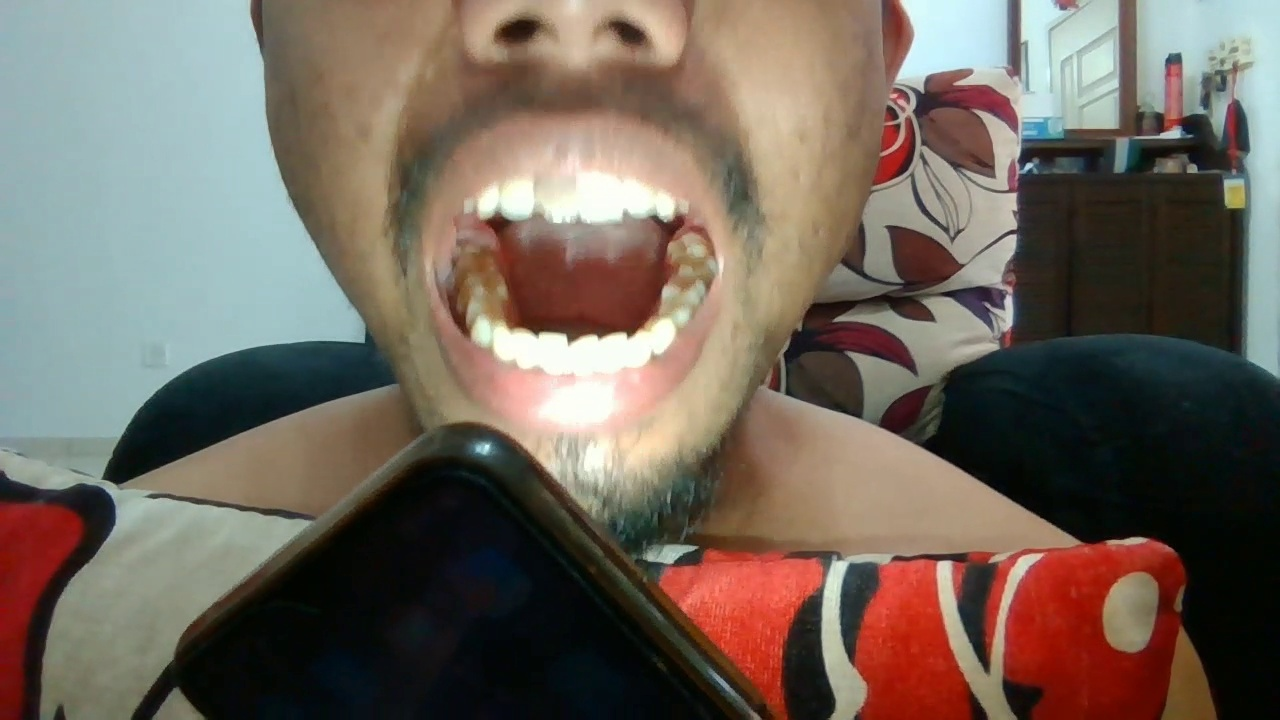1st Molar: (659, 272, 707, 300), (455, 272, 508, 297)
1st Premolar: (470, 312, 504, 345), (649, 317, 677, 355)
2nd Molar: (455, 252, 496, 276), (676, 257, 718, 278)
2nd Premolar: (661, 295, 697, 326), (465, 293, 507, 319)
3rd Molar: (666, 231, 711, 261), (454, 237, 484, 255)
Canine: (491, 322, 514, 363), (628, 328, 652, 367), (476, 182, 497, 219), (657, 186, 677, 222)
Central Incisor: (534, 172, 580, 224), (580, 171, 622, 224), (537, 331, 568, 376), (568, 334, 600, 376)
Lateral Incisor: (498, 177, 534, 221), (622, 175, 656, 218), (600, 331, 628, 373), (513, 327, 537, 371)
